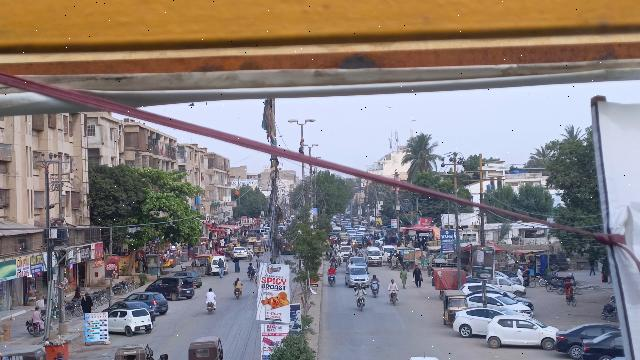Bike: (387, 289, 401, 309), (354, 295, 367, 314), (369, 280, 381, 300), (326, 273, 337, 291), (31, 322, 42, 337), (205, 300, 215, 316), (233, 287, 242, 302)
Car: (484, 314, 560, 352), (450, 304, 508, 339), (107, 308, 155, 336), (144, 276, 195, 300), (127, 290, 170, 316), (346, 264, 369, 289)
Person: (79, 290, 95, 315), (411, 263, 425, 290), (396, 266, 409, 290), (203, 286, 218, 302), (29, 306, 44, 322), (353, 282, 368, 297), (385, 277, 400, 292), (232, 275, 244, 288), (326, 264, 338, 275), (370, 273, 381, 282)
Rickshaw: (440, 287, 469, 328), (185, 335, 226, 360), (113, 341, 153, 360)
